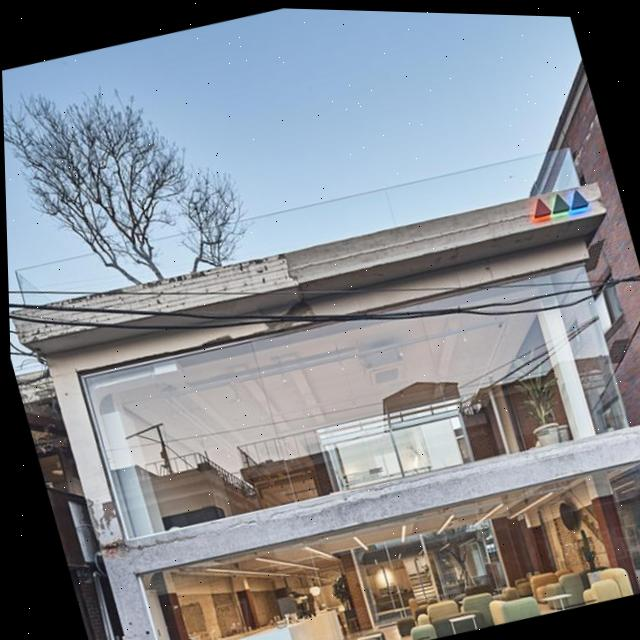building: (5, 165, 640, 640)
